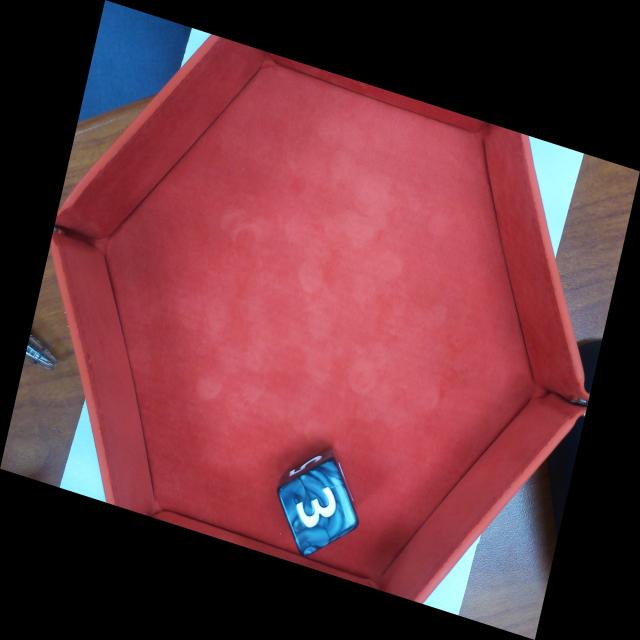dice: (283, 461, 359, 556)
